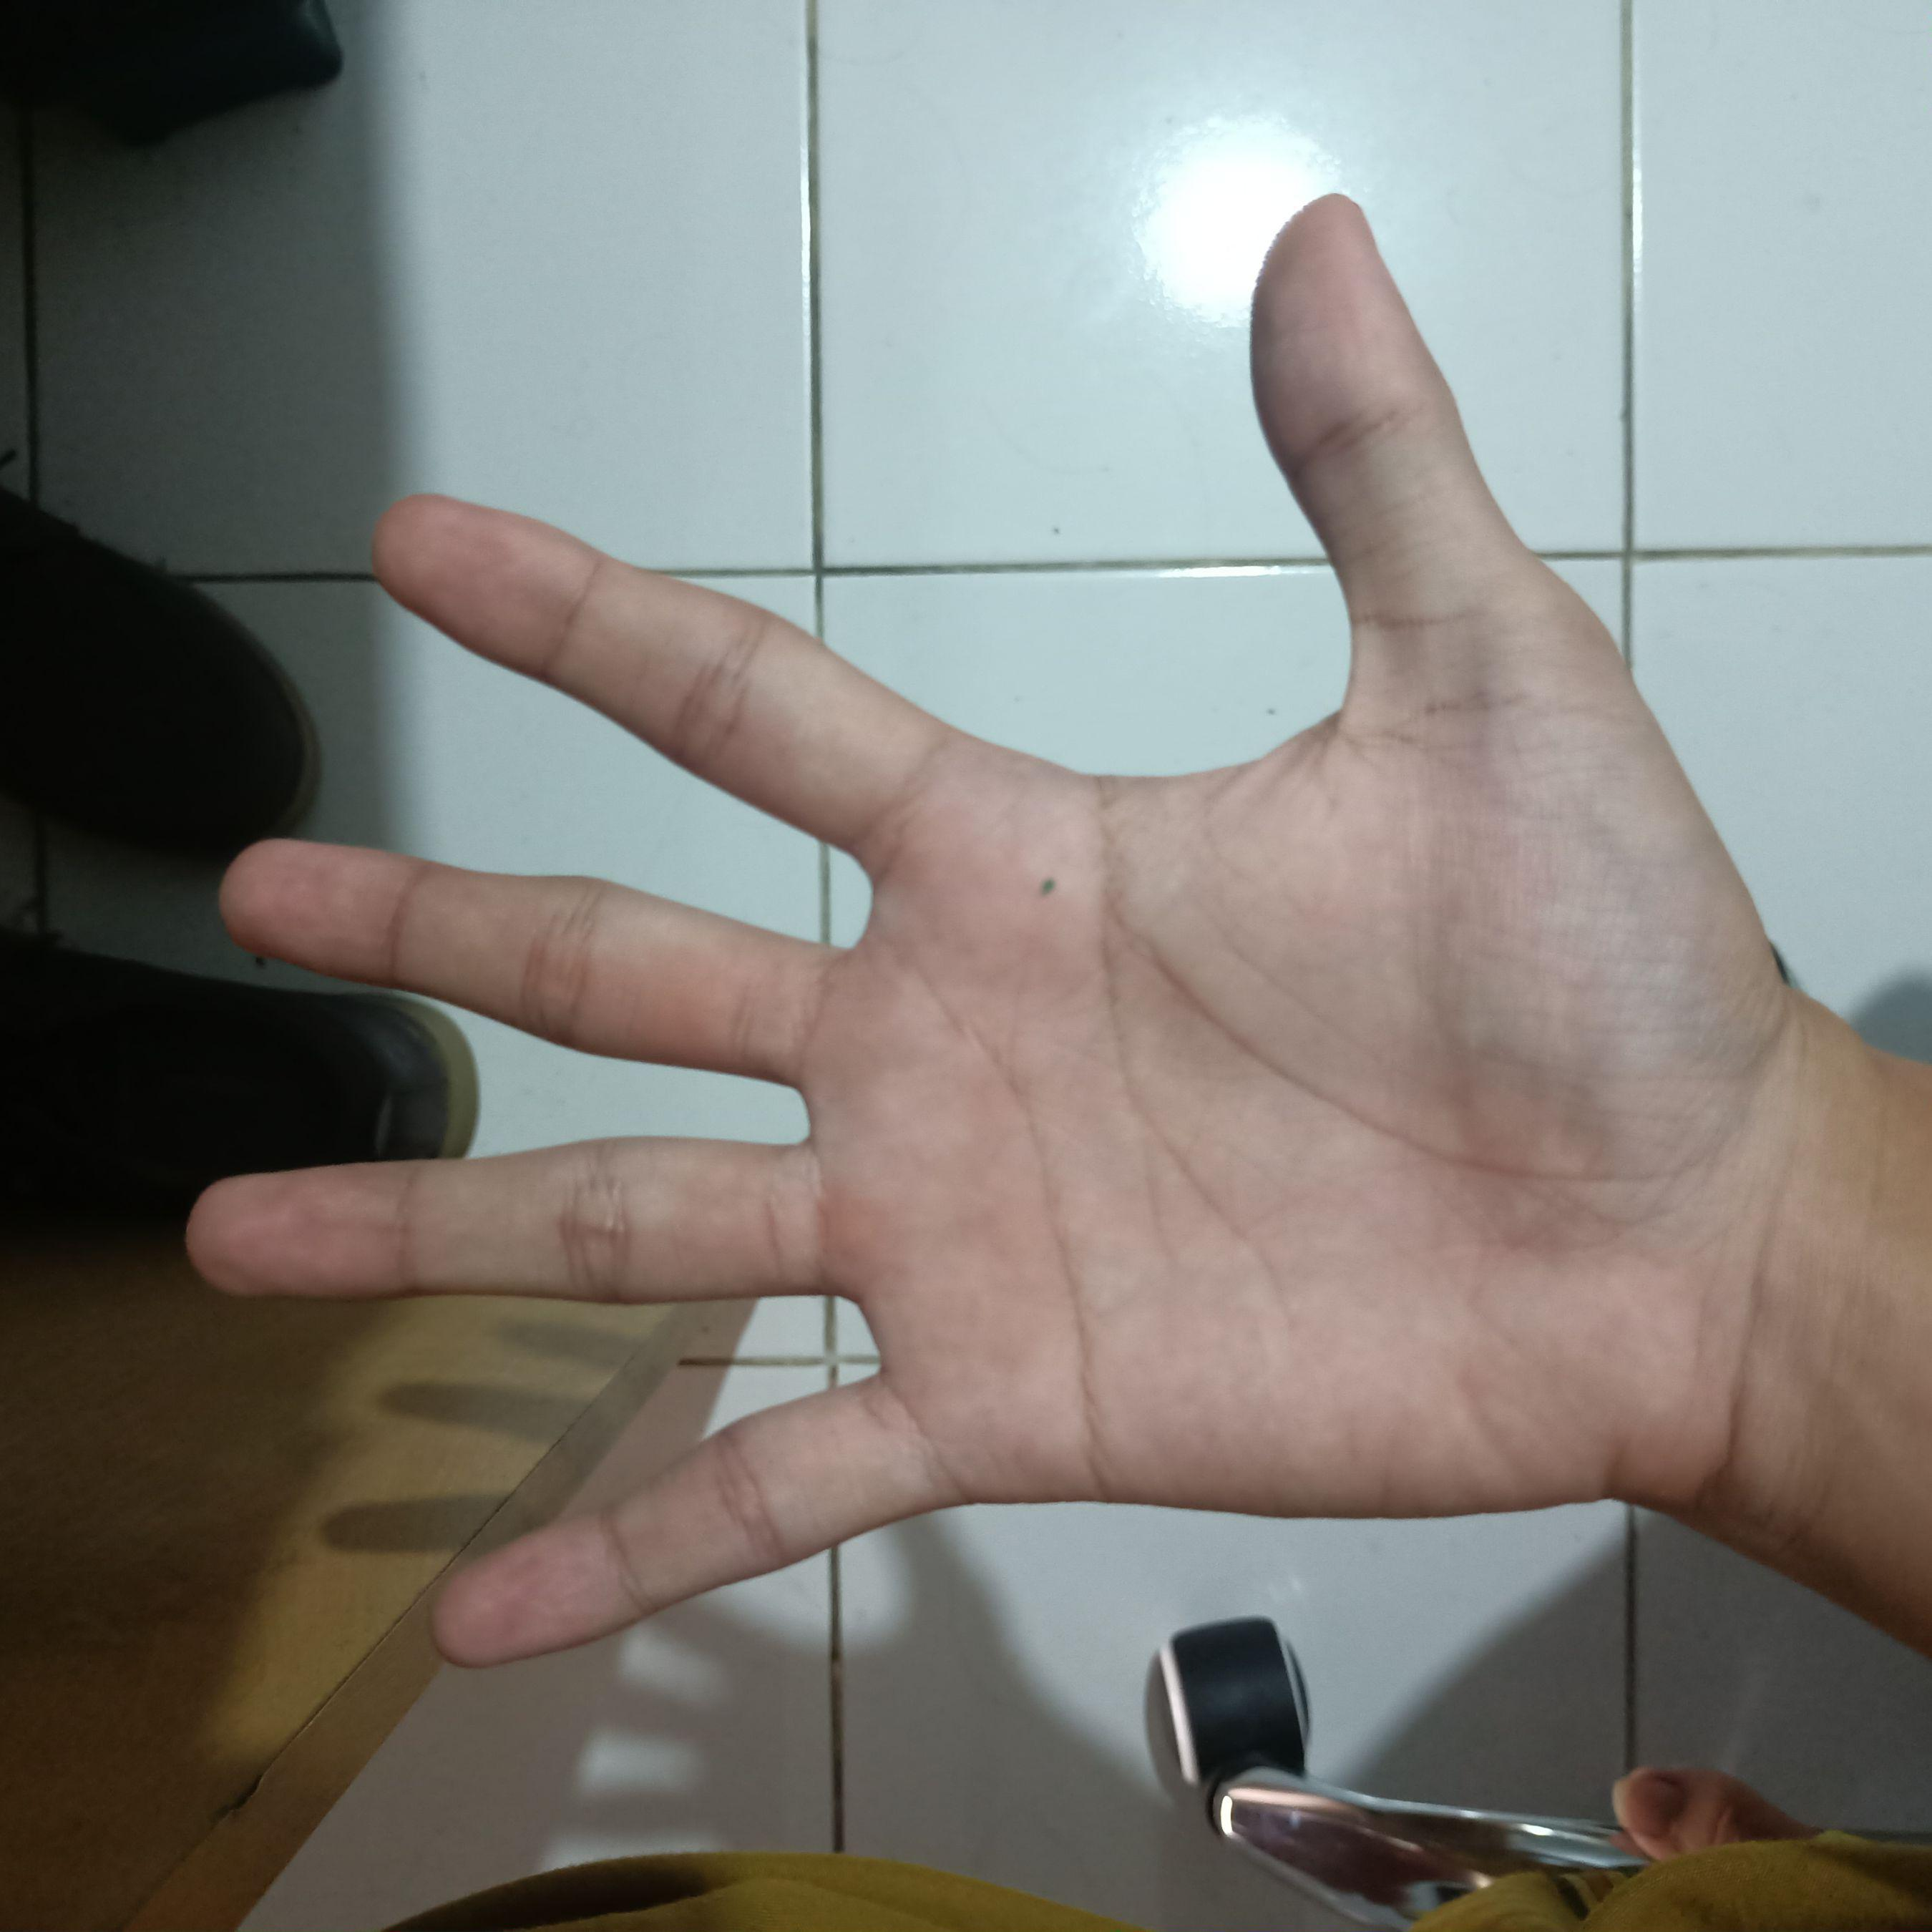paper: (175, 165, 1844, 1691)
